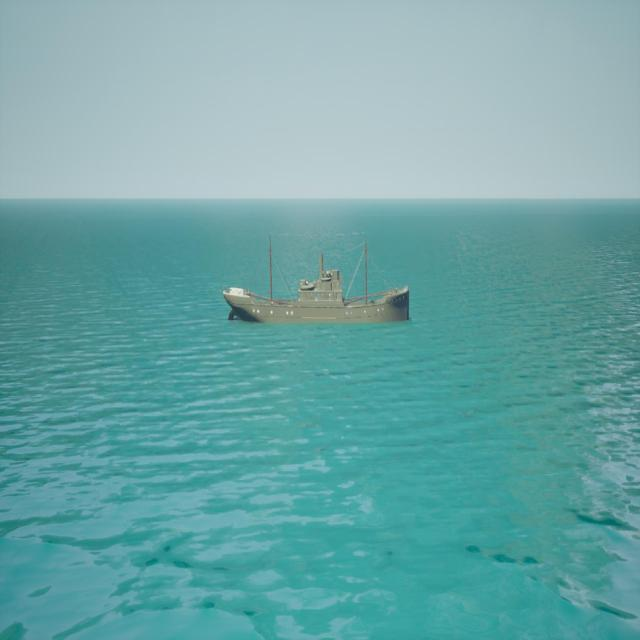fishing ship: (225, 234, 412, 325)
